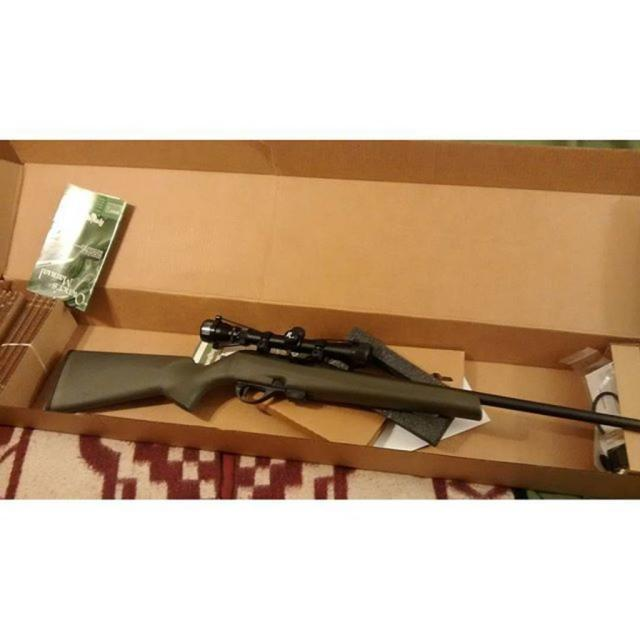weapon: (44, 314, 640, 432)
